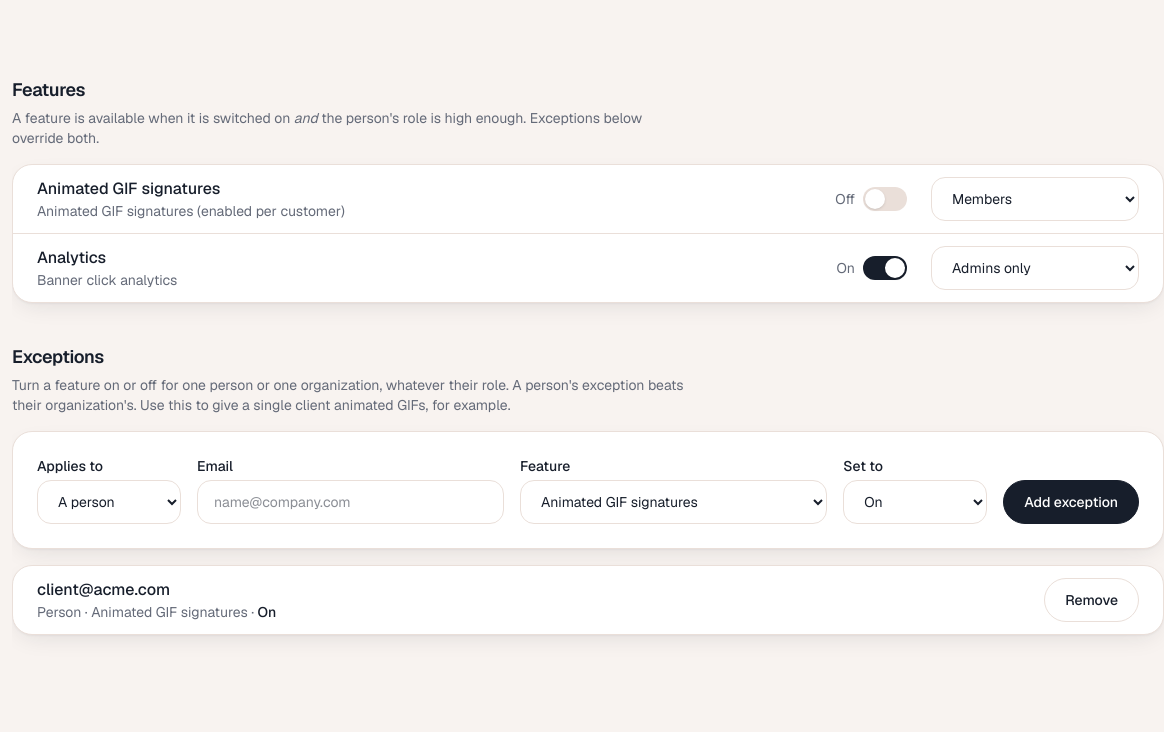
Scenario: Features screen › shows the server's message and does not refresh when a change is refused
The width and height of the screenshot is (1164, 732).
Click the switch named "Analytics: on by default": (885, 268) [863,246,907,290]
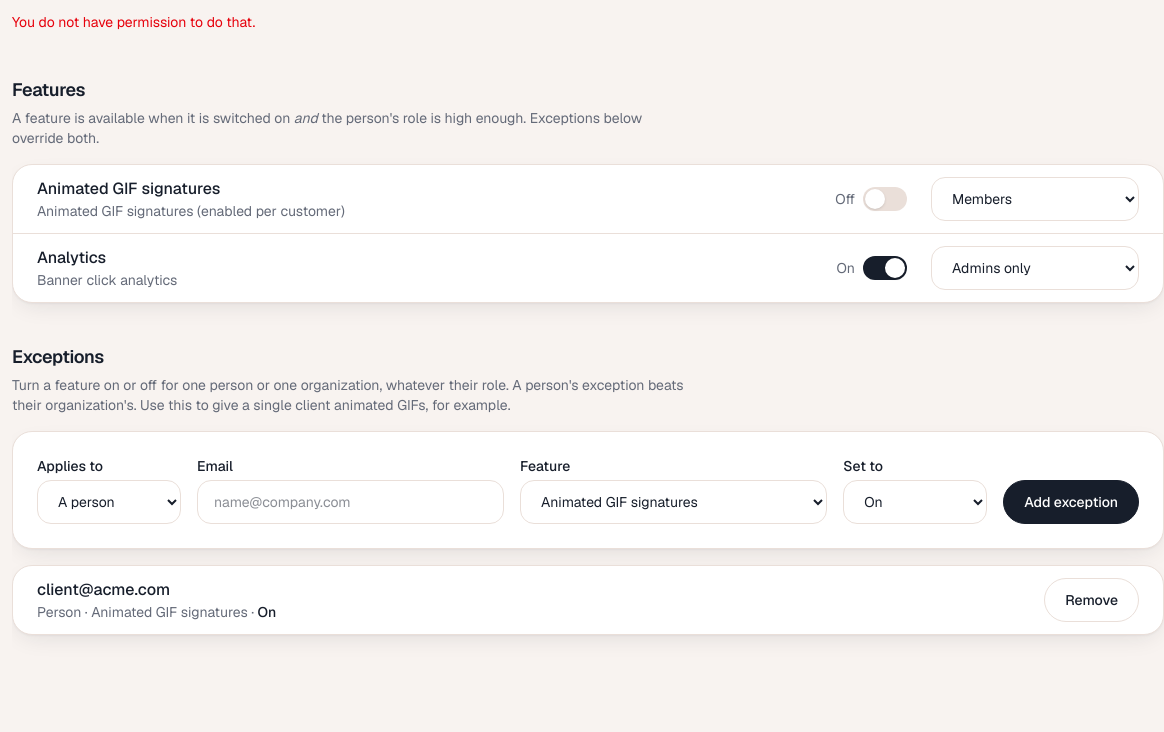
Now the text "You do not have permission to do that." is shown, box [12,13,255,31]
